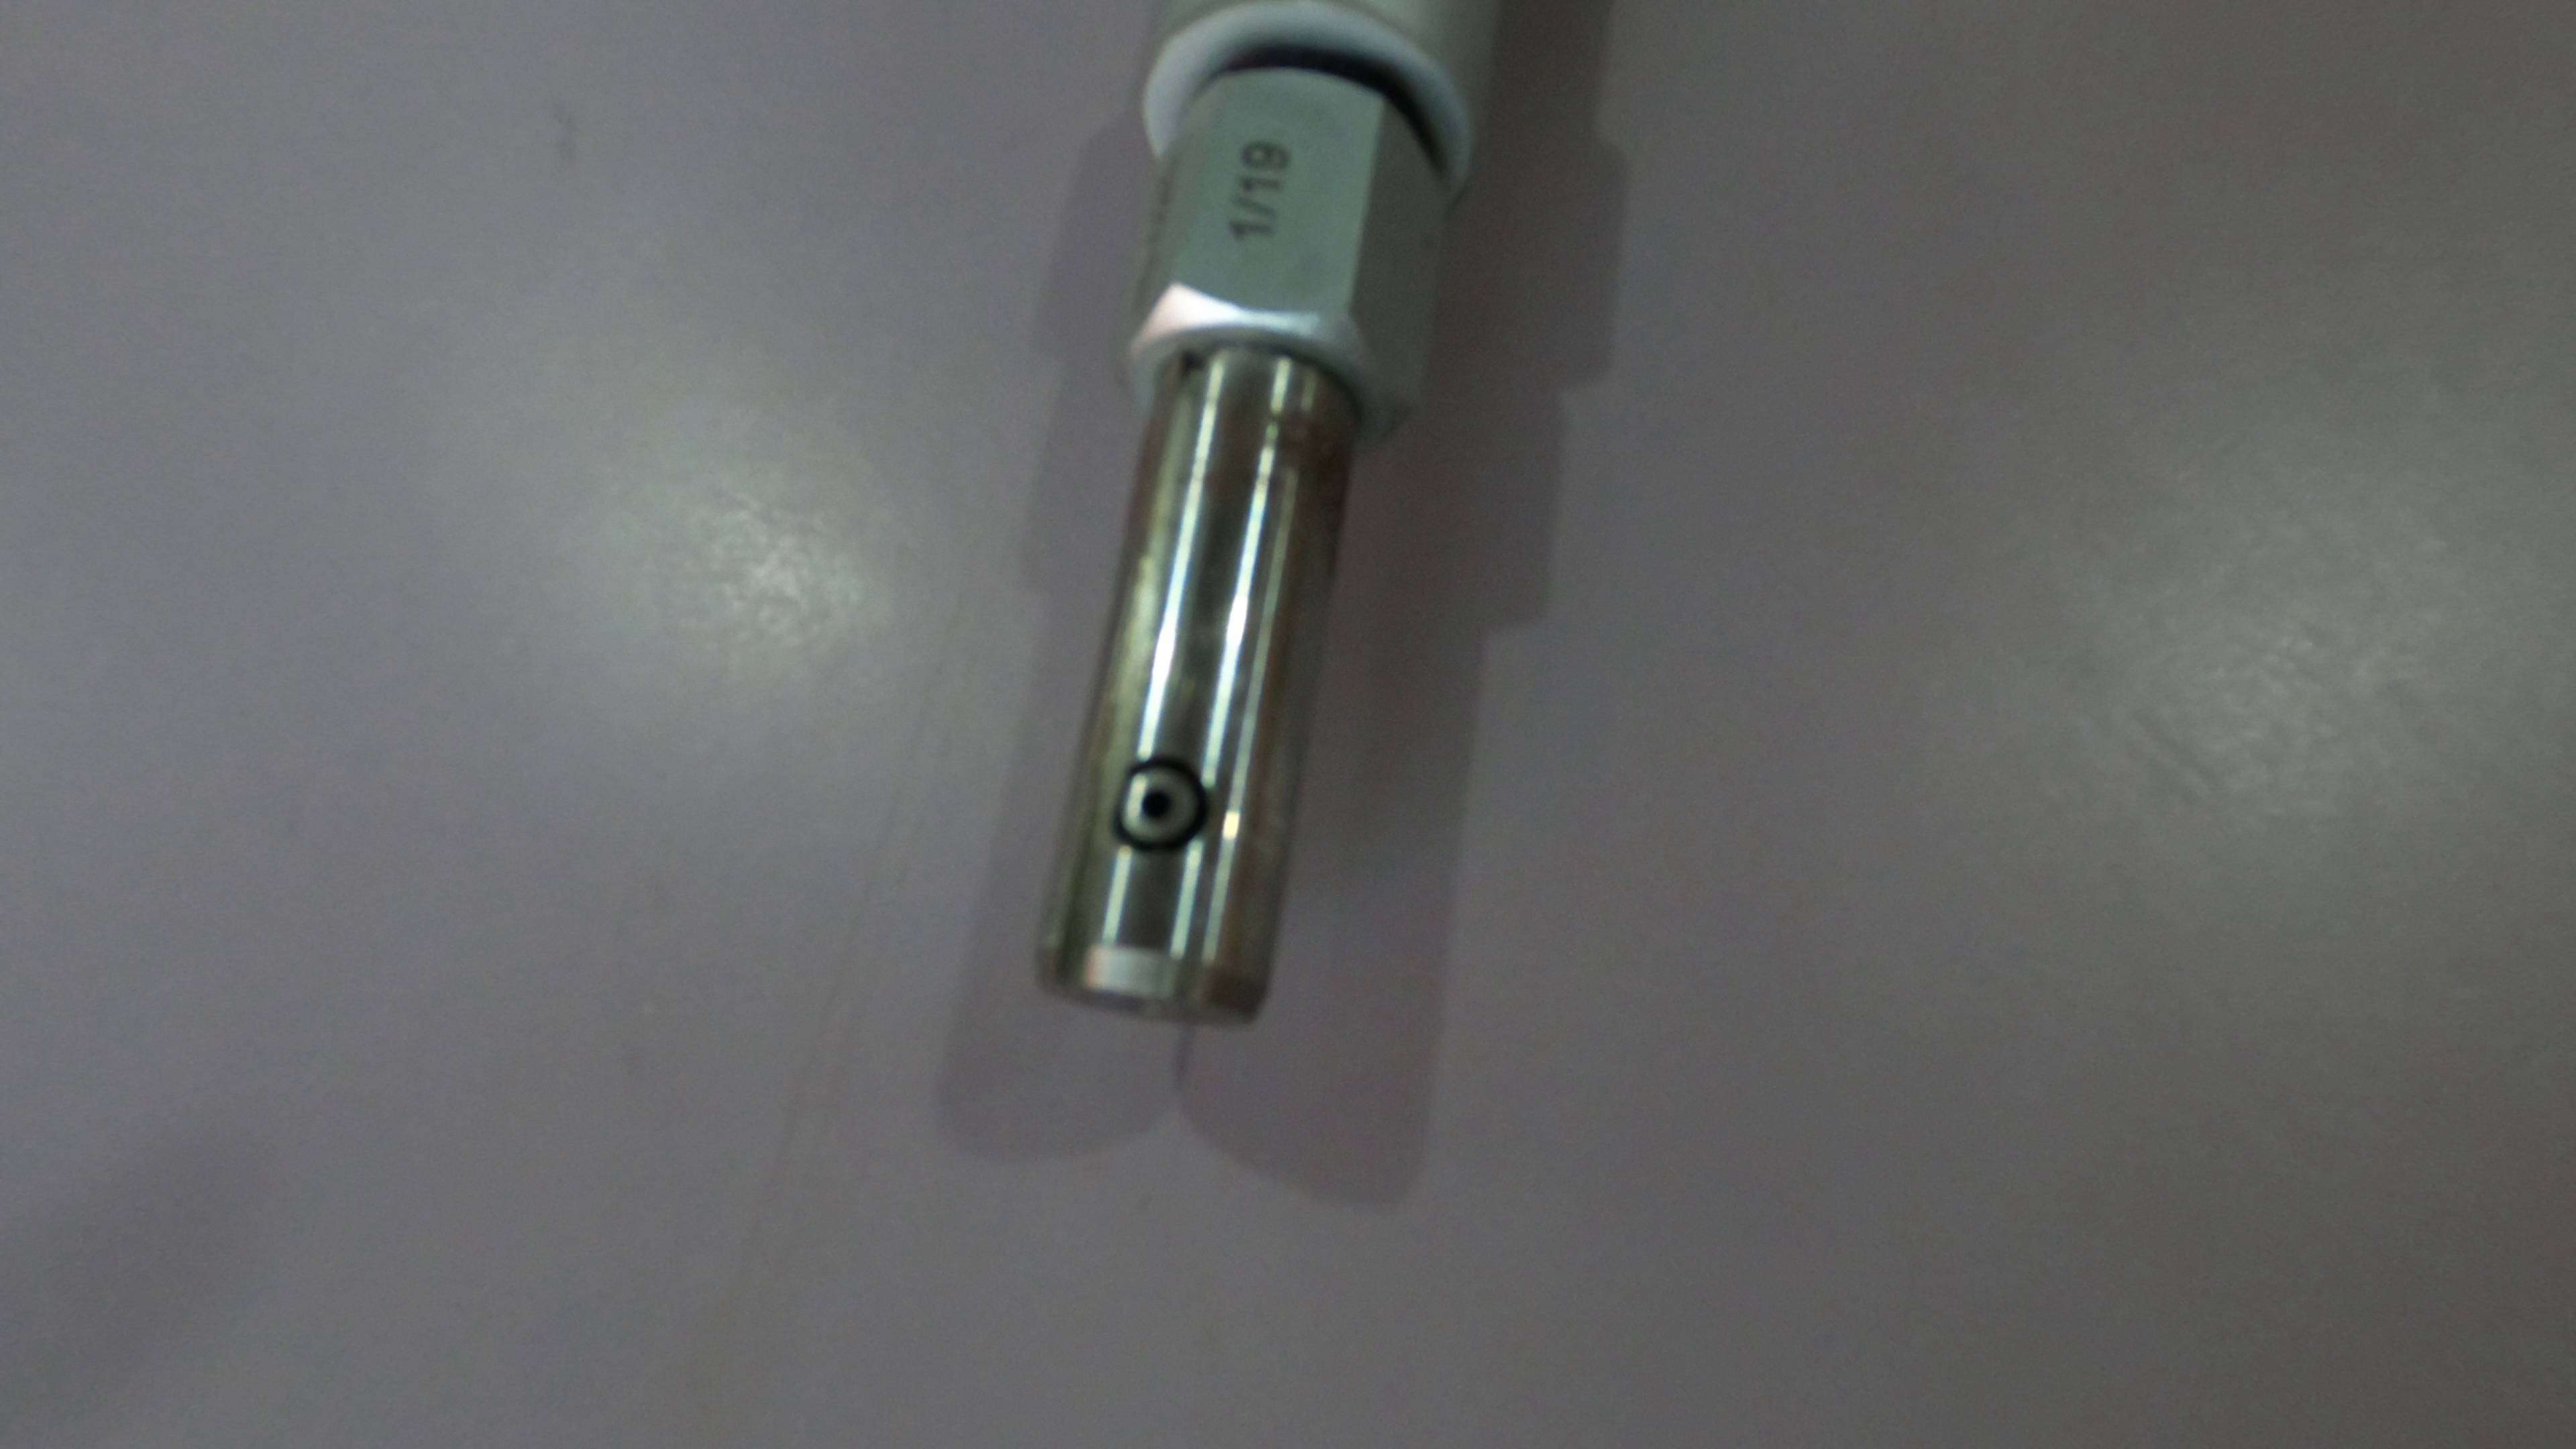air_gauge: (1021, 7, 1499, 1031)
